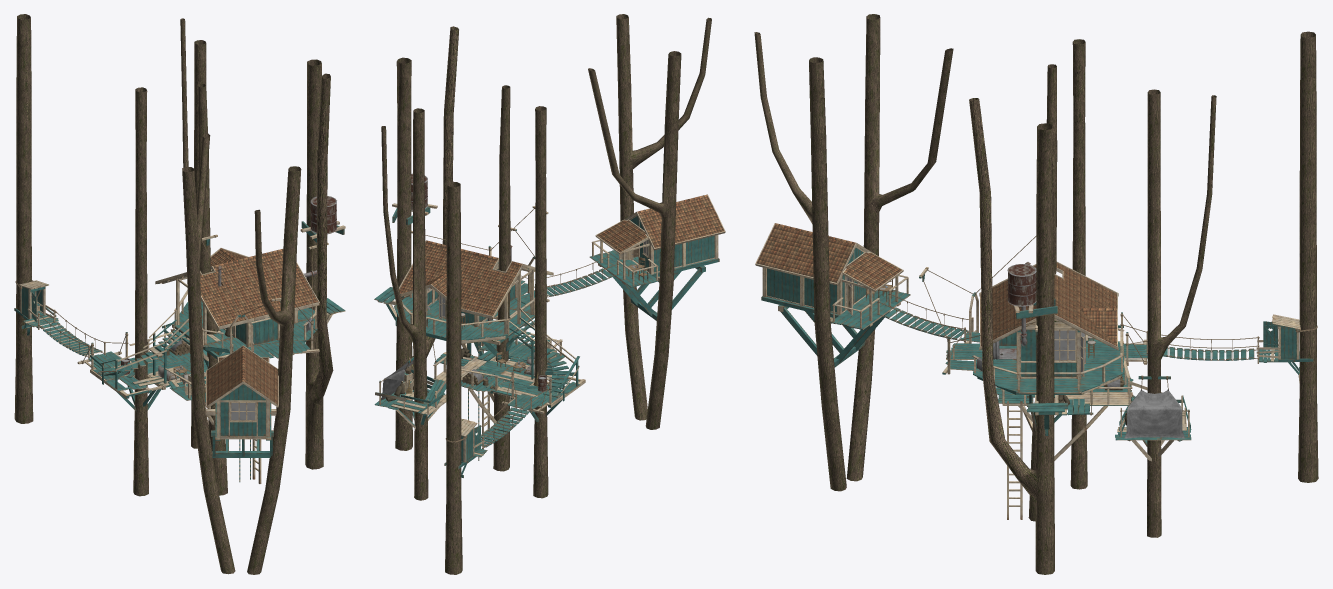
File: casaArbol.obj
3 renders of one model, left to right at view 1: azimuth 30°, elevation 25°; view 2: azimuth 150°, elevation 25°; view 3: azimuth 270°, elevation 25°, orthographic. The views are drawn at different scales.
Parts seen in each view (by area): view 1: All_house; view 2: All_house; view 3: All_house, Circle_000.
Boxes of the visible parts, x1,y1,x2,y2 form: All_house: (14, 14, 345, 574); All_house: (374, 14, 725, 574); All_house: (754, 14, 1318, 574); Circle_000: (847, 277, 1084, 371).
Size of the model in its own units: 16.04 by 26.25 by 29.08.
Materials: 7 (7 with a texture image).
